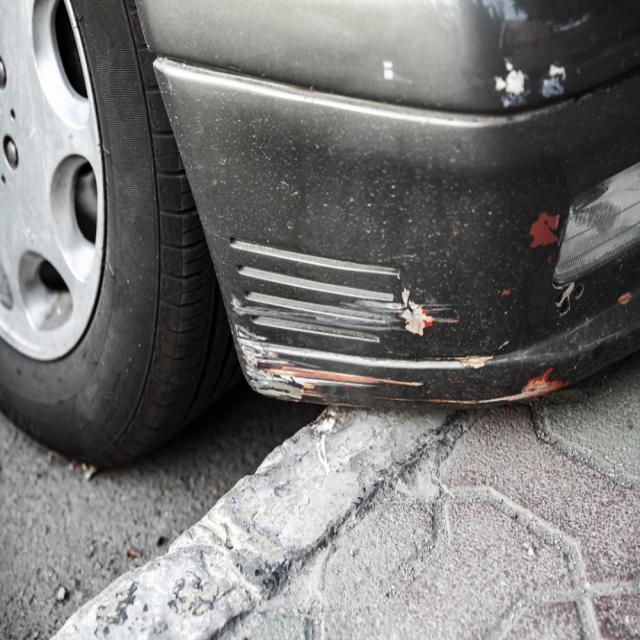scratch: (232, 296, 574, 407)
